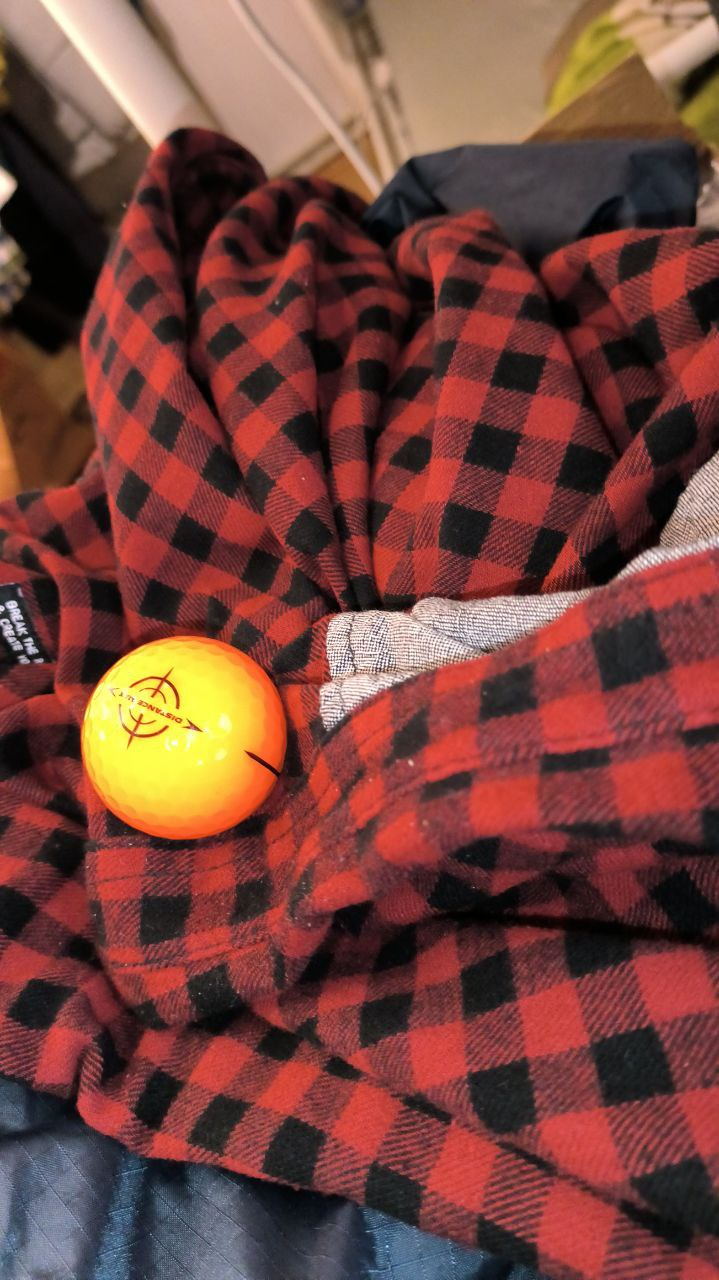orange_ball: (82, 634, 286, 841)
